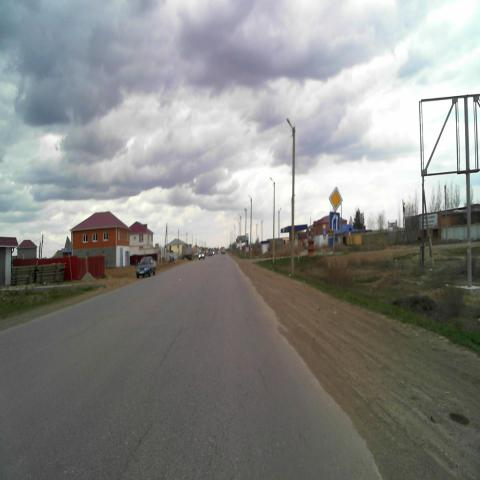5_15_5: (329, 212, 339, 230)
